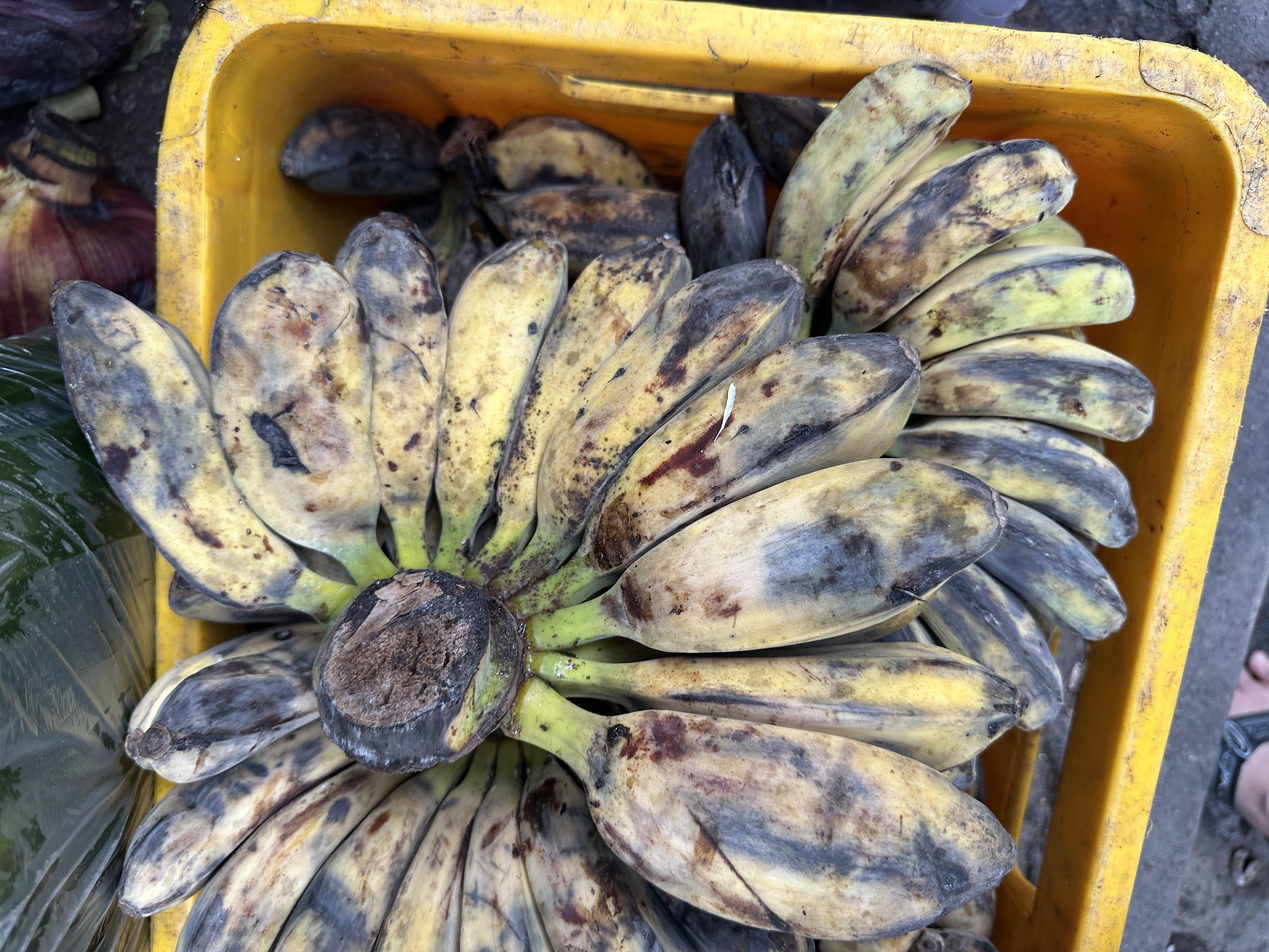ripe: (51, 215, 1027, 939), (120, 622, 691, 952)
underripe: (766, 60, 1154, 729)
